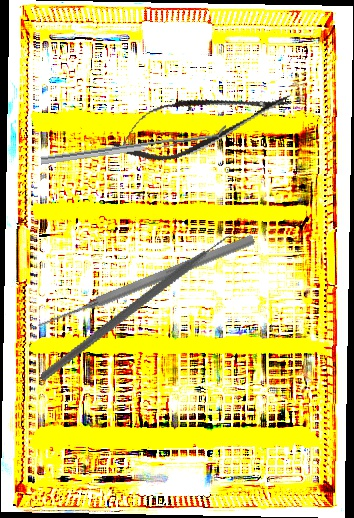Chopper: (39, 188, 249, 431)
Micro Scissor: (107, 72, 299, 173)
Pusher: (33, 231, 257, 334)
Spatula Surgical: (39, 123, 228, 165)
